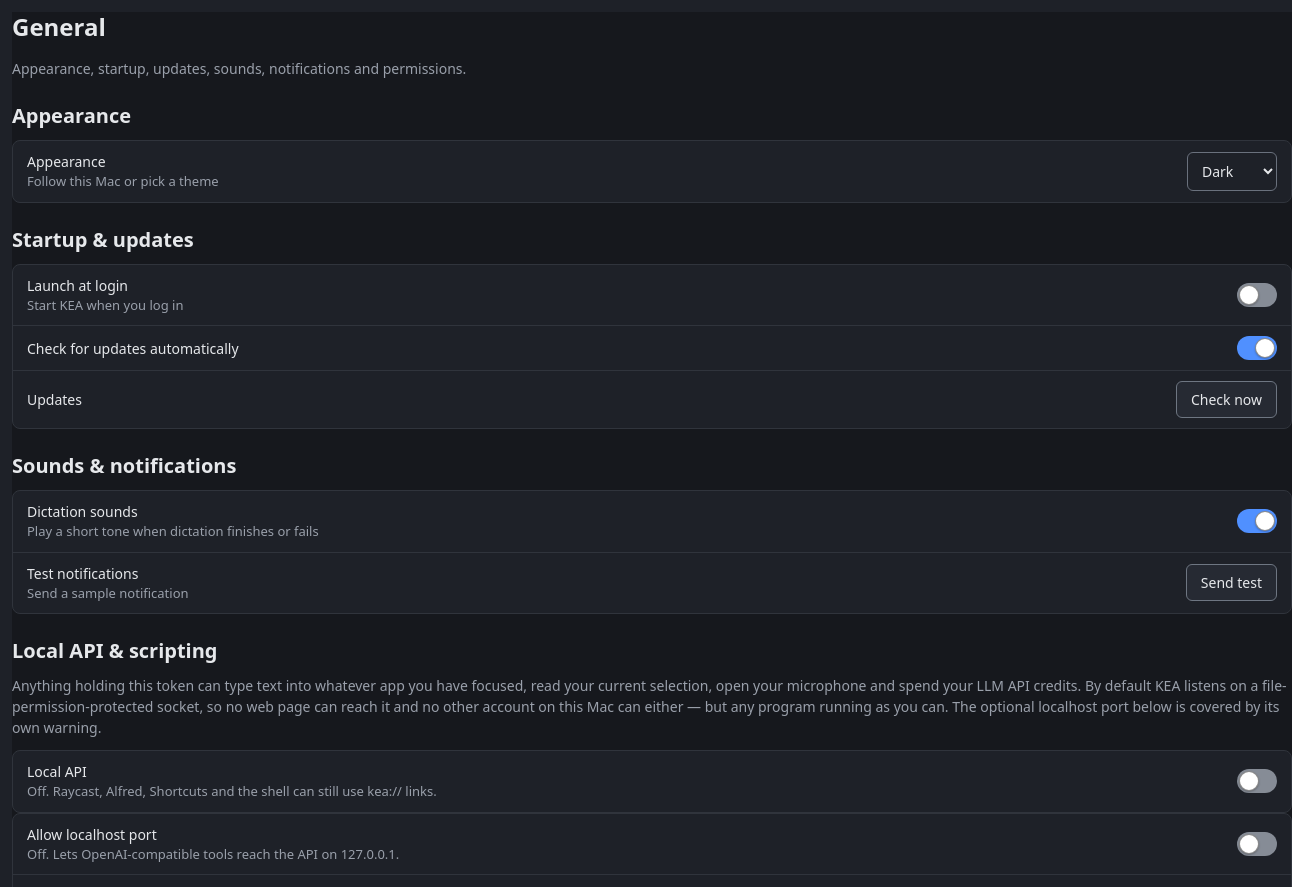
Test case: GeneralPage › leaves the toggle off when the socket refuses to bind
Click the switch named "Enable the local API".
click(1257, 781)  # box [1237, 769, 1277, 793]
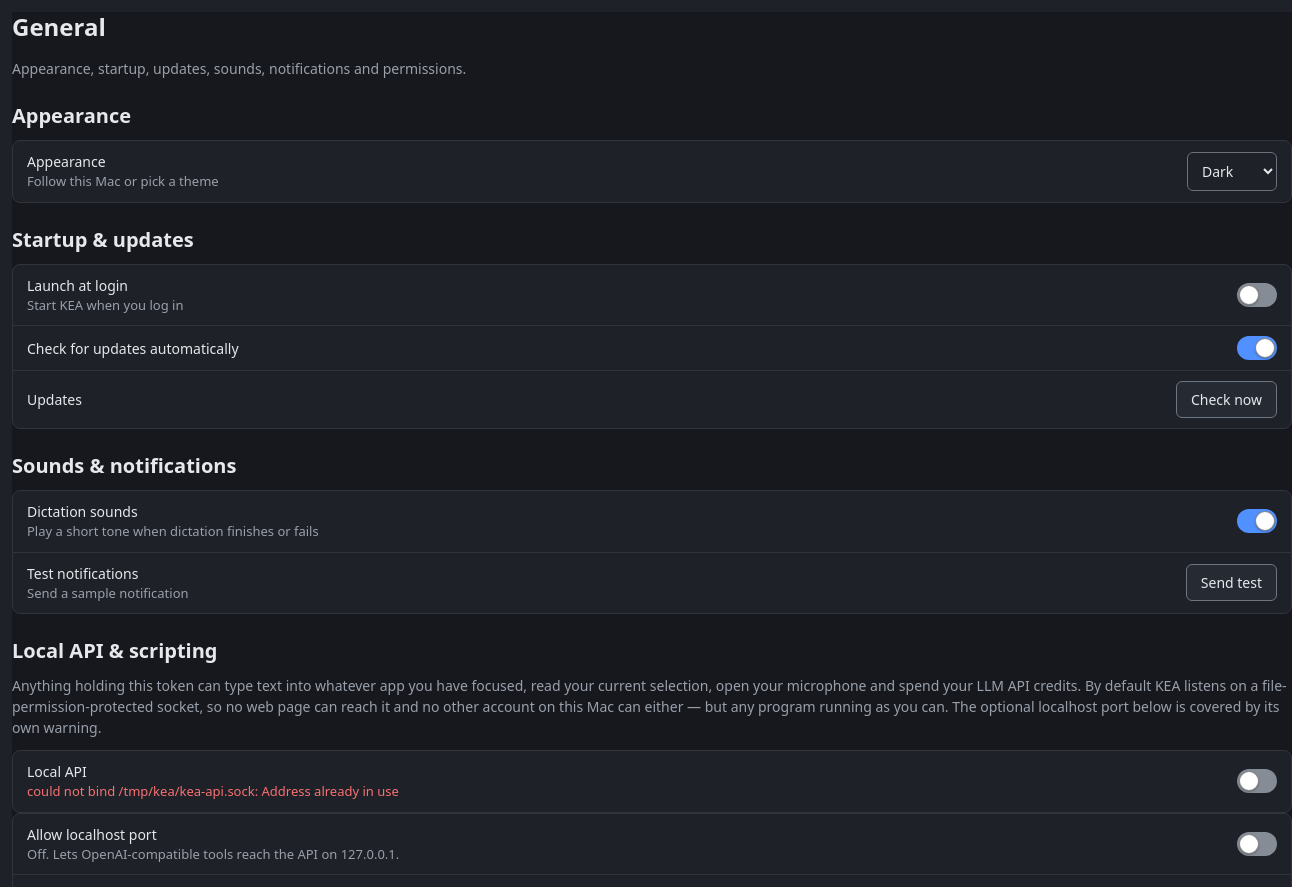
Expected: the text "could not bind /tmp/kea/kea-api.sock: Address already in use" is shown, [27, 782, 399, 802]
